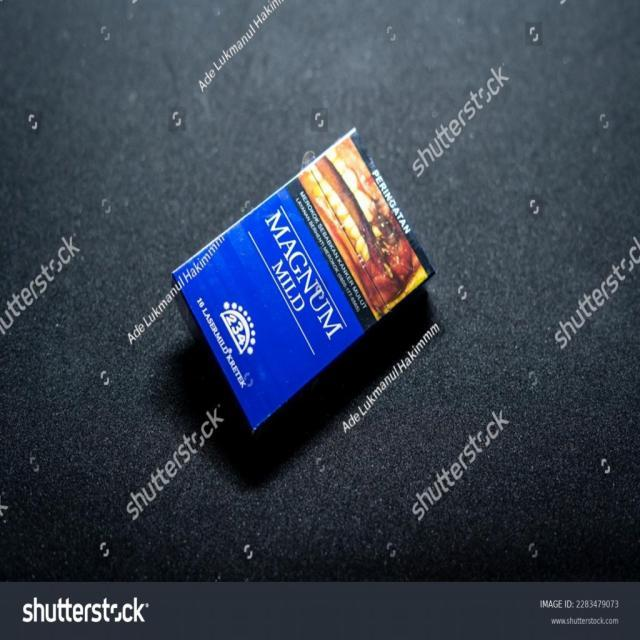smoking: (144, 127, 462, 430)
